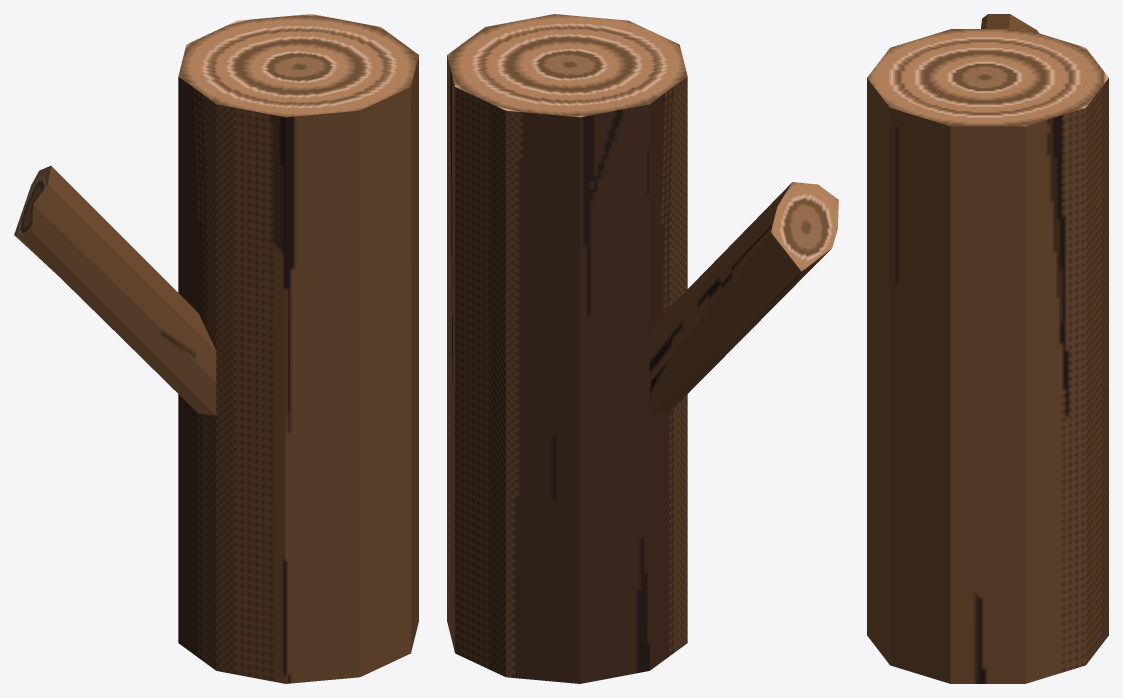
File: Tronco.fbx
3 views of the same model, side by side, from view 1: azimuth 30°, elevation 25°; view 2: azimuth 150°, elevation 25°; view 3: azimuth 270°, elevation 25° (orthographic).
Visible parts, largest first — view 1: Cylinder; view 2: Cylinder; view 3: Cylinder.
Boxes of the visible parts, x1,y1,x2,y2 form: Cylinder: [14, 14, 418, 683]; Cylinder: [447, 14, 838, 683]; Cylinder: [867, 14, 1108, 683].
Bounding box in the file's own units: 235 × 134 × 340.
1 material, 1 textured.
